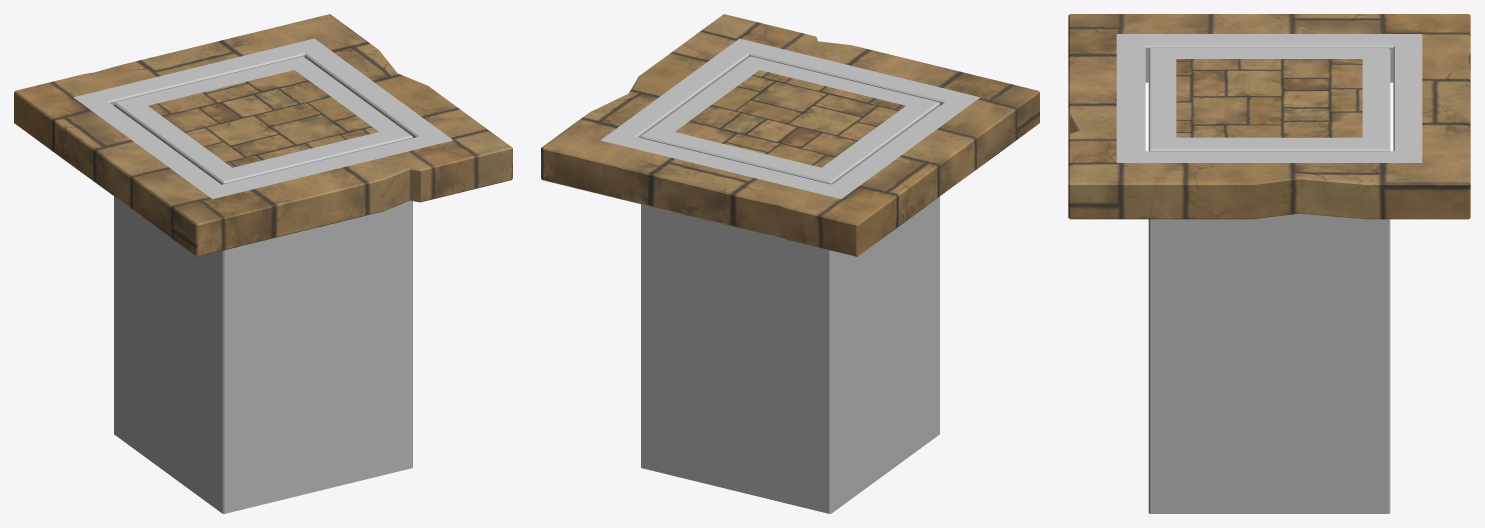
File: PlatformLargeColumnOscY.fbx
3 renders of one model, left to right at view 1: azimuth 30°, elevation 25°; view 2: azimuth 150°, elevation 25°; view 3: azimuth 270°, elevation 25°, orthographic. The views are drawn at different scales.
Parts seen in each view (by area): view 1: ColumnOscY, PlatformLargeColumnOscY_Floor; view 2: ColumnOscY, PlatformLargeColumnOscY_Floor; view 3: ColumnOscY, PlatformLargeColumnOscY_Floor.
Boxes of the visible parts, <box> form: ColumnOscY: <box>114,56,412,513</box>; PlatformLargeColumnOscY_Floor: <box>14,14,512,256</box>; ColumnOscY: <box>641,56,939,513</box>; PlatformLargeColumnOscY_Floor: <box>541,14,1039,256</box>; ColumnOscY: <box>1148,48,1390,513</box>; PlatformLargeColumnOscY_Floor: <box>1068,14,1470,219</box>.
Size of the model in its own units: 500 by 500 by 500.
